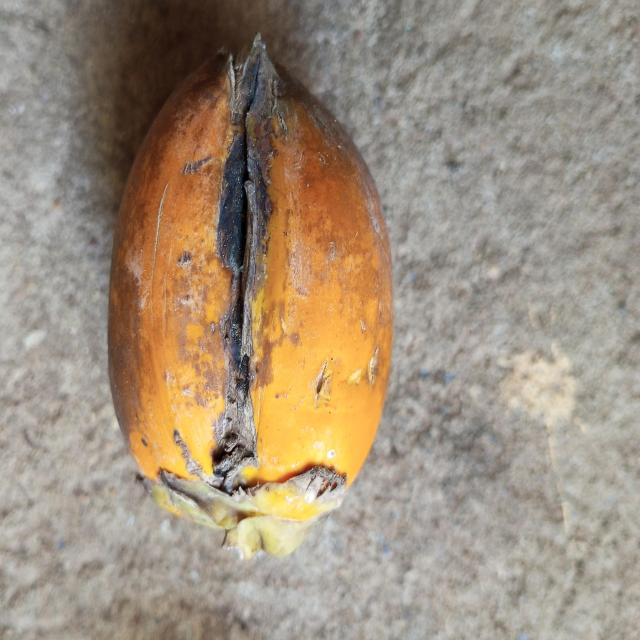damaged: (107, 37, 395, 561)
